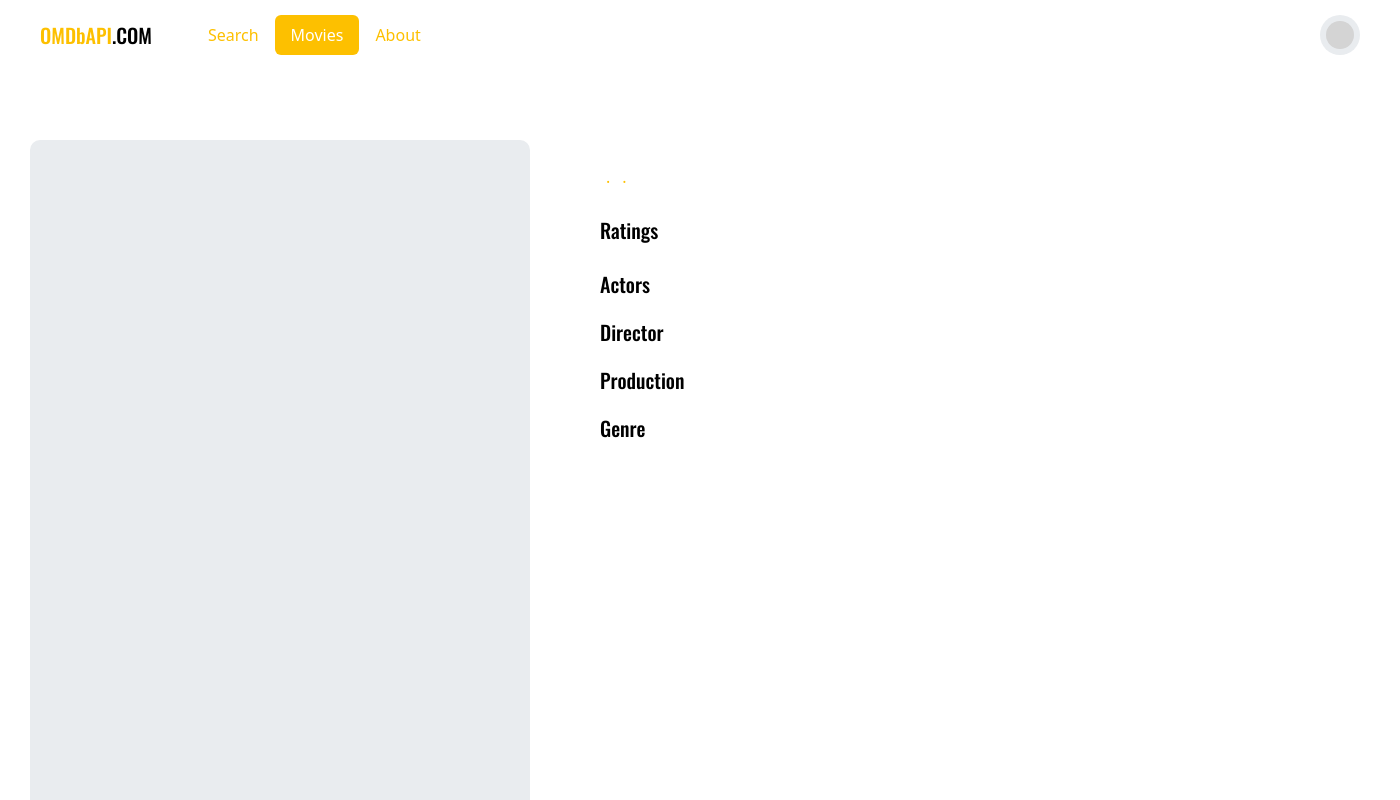
Move to About page. › If the user Logo in Header is clicked, can move to About page and see the About info again.
Click the element with class "user".
click(1340, 35)  # box [1320,15,1360,55]
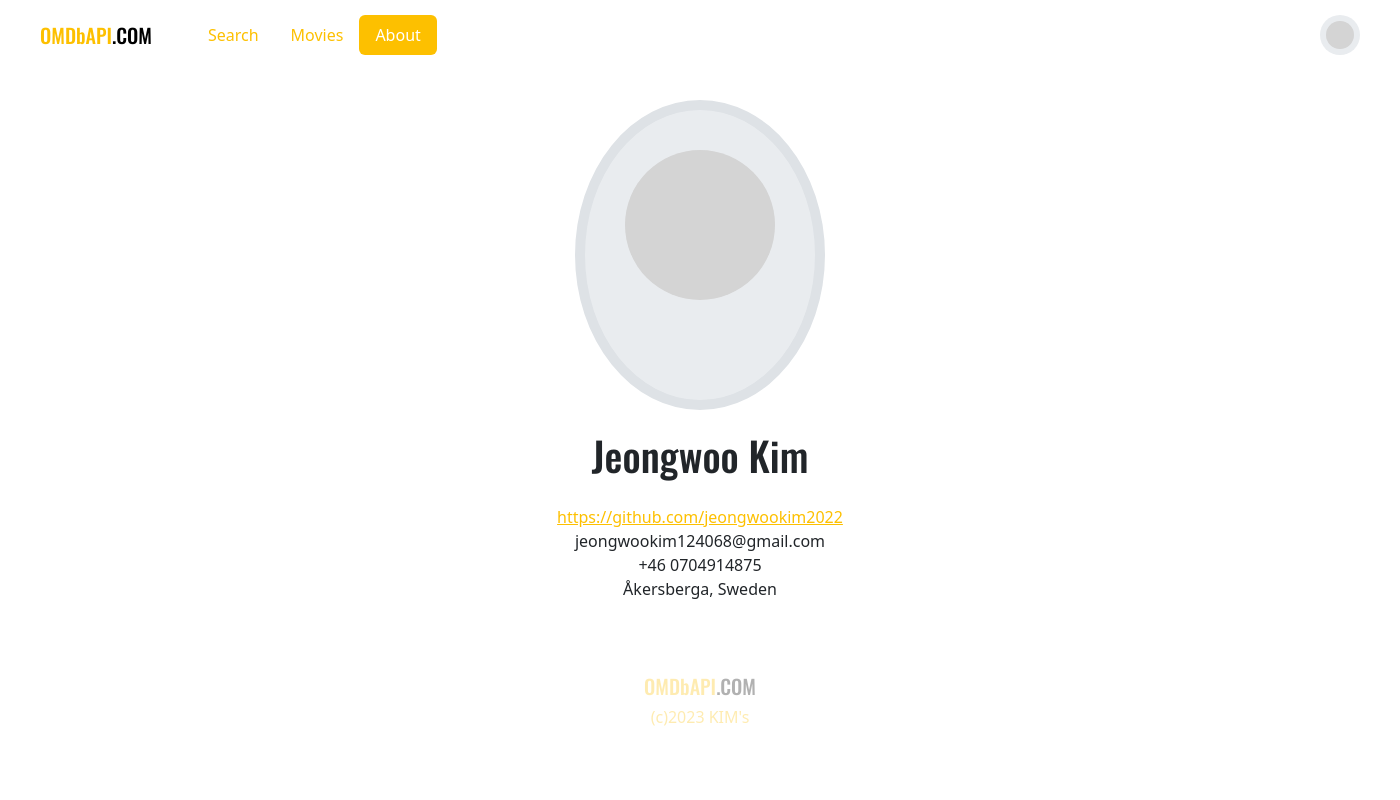
Result: the text "Jeongwoo Kim" is shown at [592,425,808,485]
